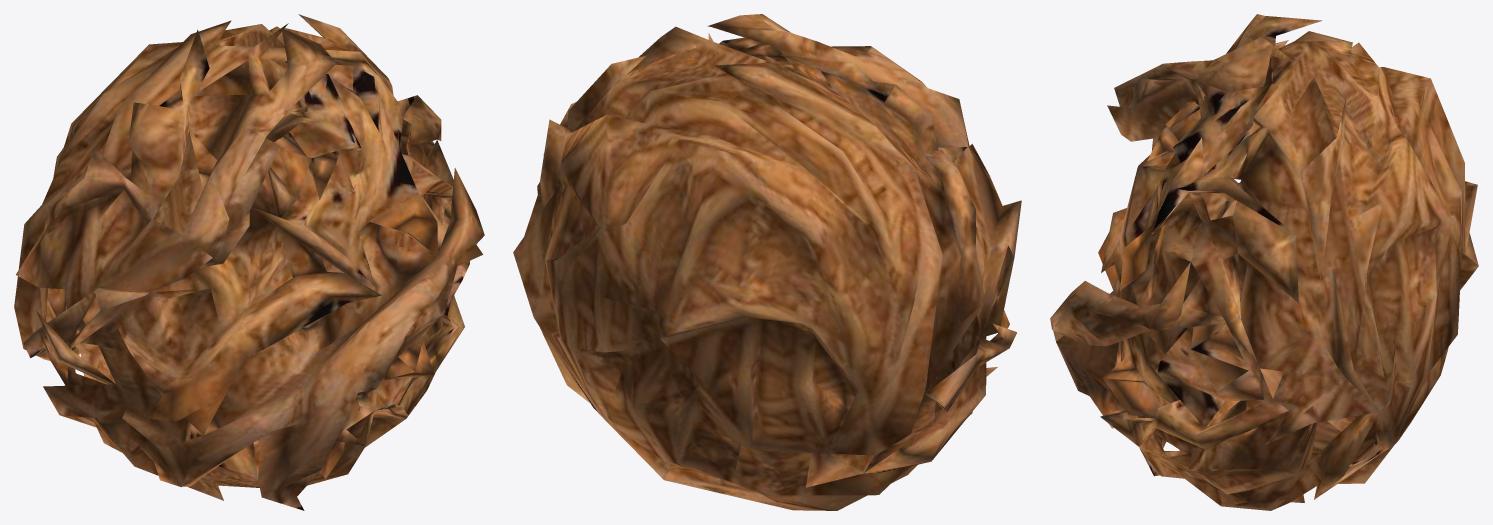
Rendered from n_calitopu.glb.
3 views of the same model, side by side, from view 1: azimuth 30°, elevation 25°; view 2: azimuth 150°, elevation 25°; view 3: azimuth 270°, elevation 25° (orthographic). The views are drawn at different scales.
Visible parts, largest first — view 1: tripo_node_b7a015a8-5252-401b-a498-d0a6cbaa3797; view 2: tripo_node_b7a015a8-5252-401b-a498-d0a6cbaa3797; view 3: tripo_node_b7a015a8-5252-401b-a498-d0a6cbaa3797.
Boxes of the visible parts, x1=… form: tripo_node_b7a015a8-5252-401b-a498-d0a6cbaa3797: x1=14, y1=14, x2=484, y2=510; tripo_node_b7a015a8-5252-401b-a498-d0a6cbaa3797: x1=513, y1=14, x2=1021, y2=510; tripo_node_b7a015a8-5252-401b-a498-d0a6cbaa3797: x1=1050, y1=14, x2=1478, y2=510.
Size of the model in its own units: 0.969 by 0.969 by 0.8199.
1 material, 1 textured.
